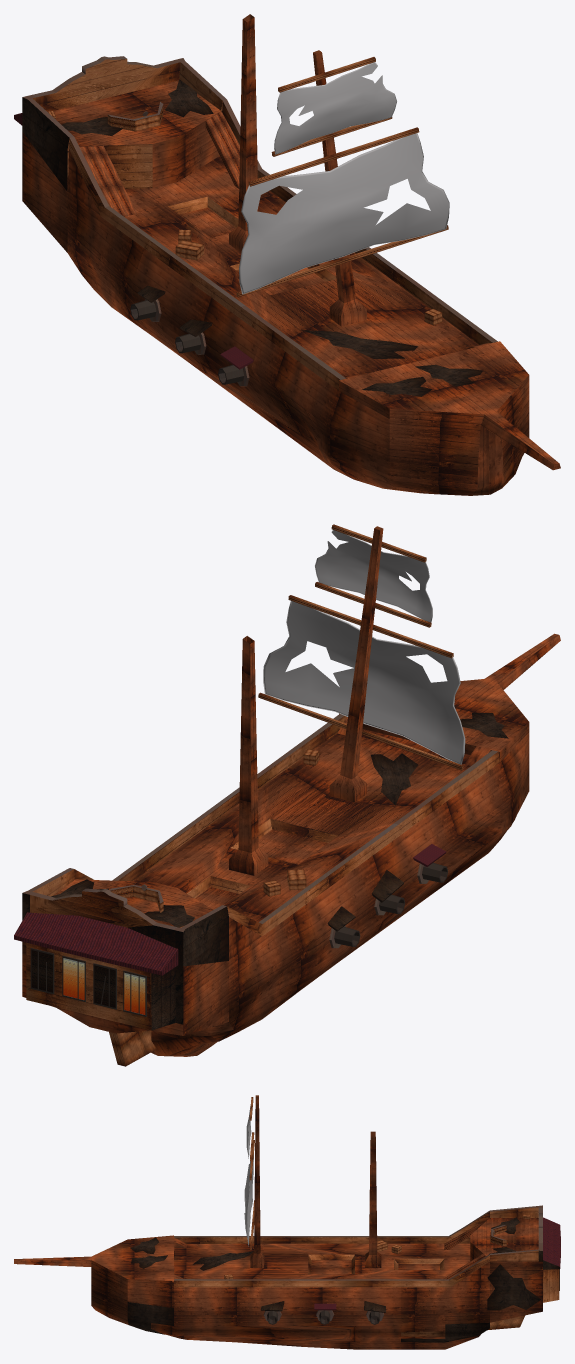
The model's file is Nship30HP.fbx.
3 views of the same model, one above another, from view 1: azimuth 30°, elevation 25°; view 2: azimuth 150°, elevation 25°; view 3: azimuth 270°, elevation 25° (orthographic). The views are drawn at different scales.
Parts seen in each view (by area): view 1: pCube1, pCube42, pCube39, pCube2, pPlane4, pCube3, pCube44, pCube43, pPlane5, pPlane2, pPlane3, pCube4 (+2 smaller); view 2: pCube1, pCube42, pCube39, pPlane4, pCube43, pCube6, pCube44, pCube45, pCube53, pCube49, pCube31, pPlane3 (+2 smaller); view 3: pCube1, pPlane1, pCube42, pPlane4, pCube6.
Part boxes in pixels (x1,y1,x2,y2): pCube1: (14, 14, 560, 495); pCube42: (239, 133, 449, 294); pCube39: (274, 62, 396, 154); pCube2: (79, 145, 137, 216); pPlane4: (301, 330, 417, 358); pCube3: (205, 111, 239, 188); pCube44: (248, 127, 419, 186); pCube43: (236, 225, 448, 297); pPlane5: (165, 79, 213, 117); pPlane2: (415, 364, 482, 386); pPlane3: (362, 377, 432, 396); pCube4: (107, 102, 163, 131); pCube1: (14, 526, 560, 1056); pCube42: (263, 601, 465, 764); pCube39: (315, 530, 432, 622); pPlane4: (371, 753, 418, 805); pCube43: (258, 692, 463, 770); pCube6: (109, 1030, 156, 1066); pCube44: (288, 595, 453, 658); pCube45: (63, 958, 84, 1000); pCube53: (124, 972, 145, 1014); pCube49: (94, 965, 115, 1007); pCube31: (31, 950, 52, 992); pPlane3: (460, 712, 508, 738); pCube1: (14, 1095, 560, 1349); pPlane1: (487, 1264, 540, 1310); pCube42: (244, 1154, 253, 1246); pPlane4: (193, 1251, 253, 1270); pCube6: (487, 1315, 525, 1330).
Size of the model in its own units: 5.58 by 9.94 by 20.23.
